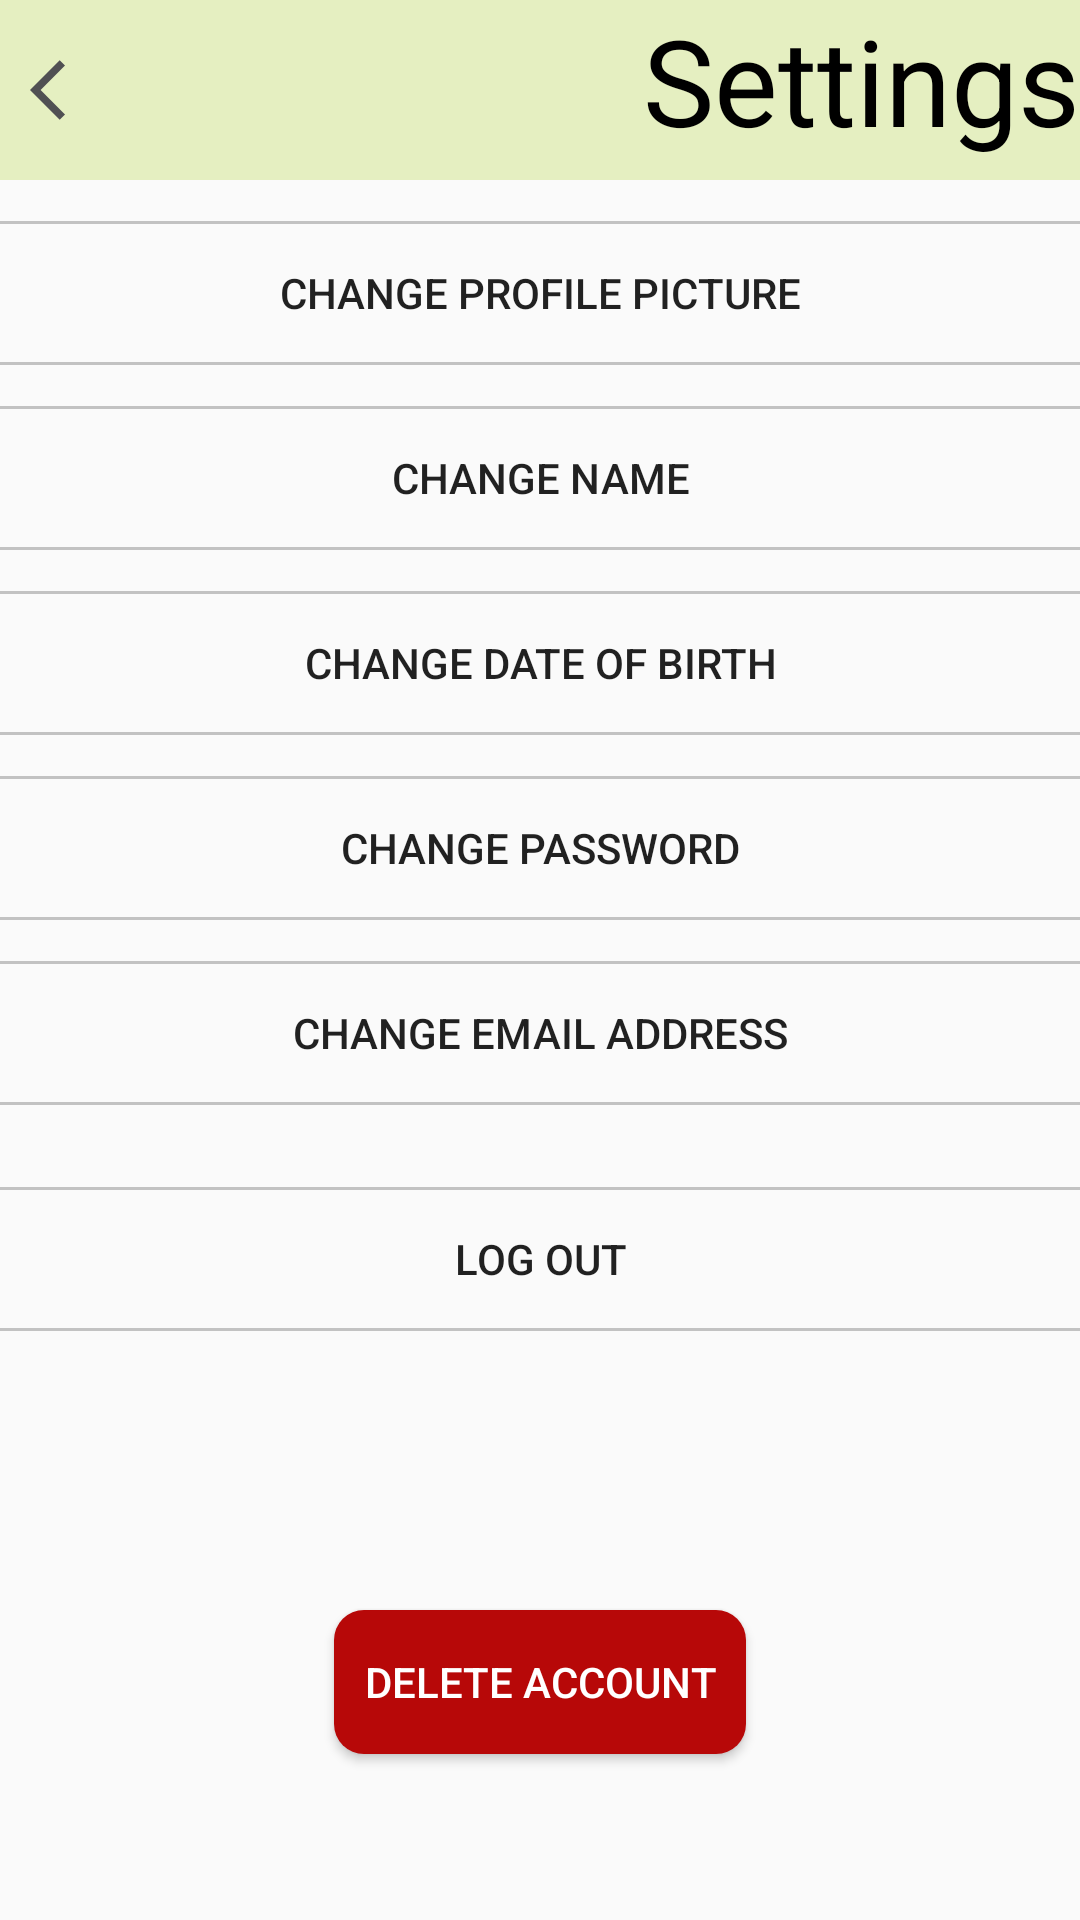

Icons on this 1080px x 1920px Android screen, each with its box as Rect(x1, y1, x2, y2):
arrow back: Rect(30, 60, 65, 120)
